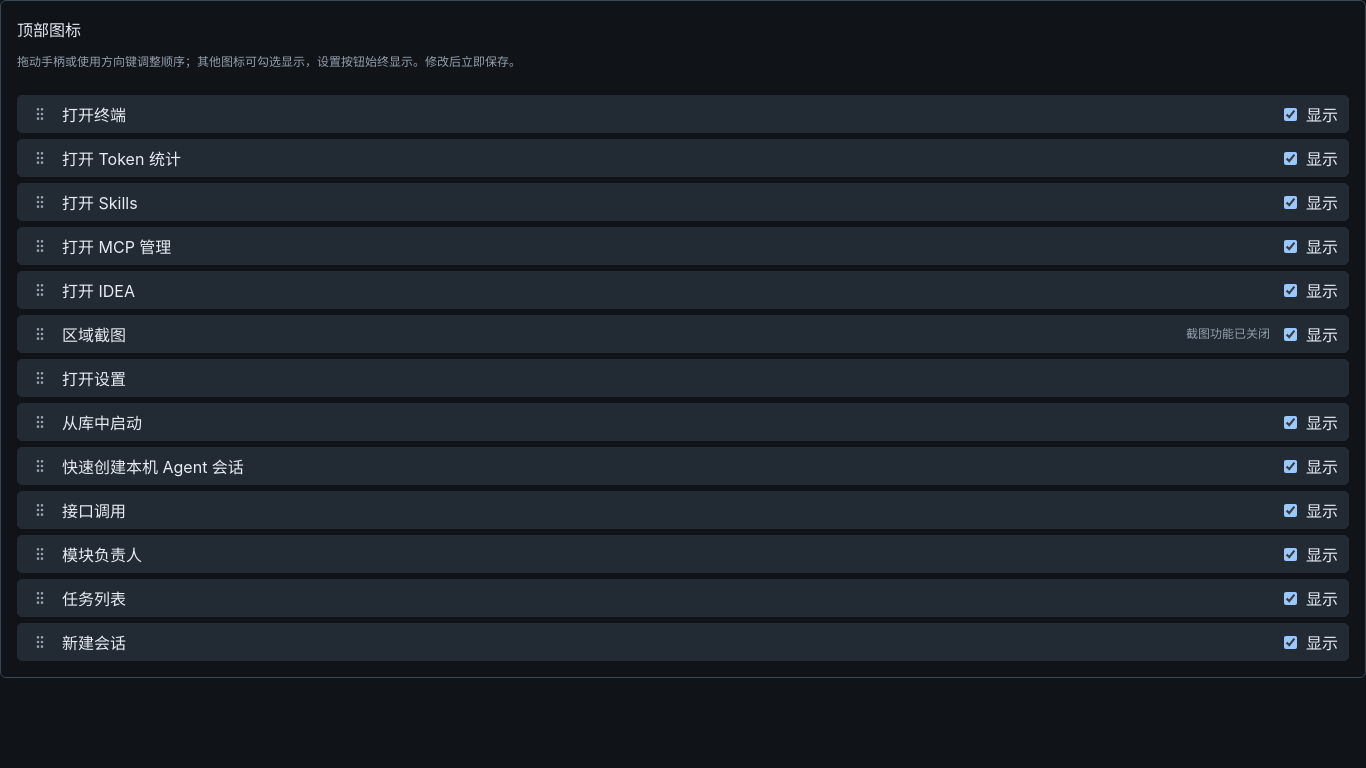
TitleBarActionSettings › keeps the error visible when saving fails
Expected: the text "截图功能已关闭" is shown, [1186, 325, 1270, 343]
Click the checkbox named "显示打开终端".
click(1290, 114)  # box [1284, 108, 1297, 120]
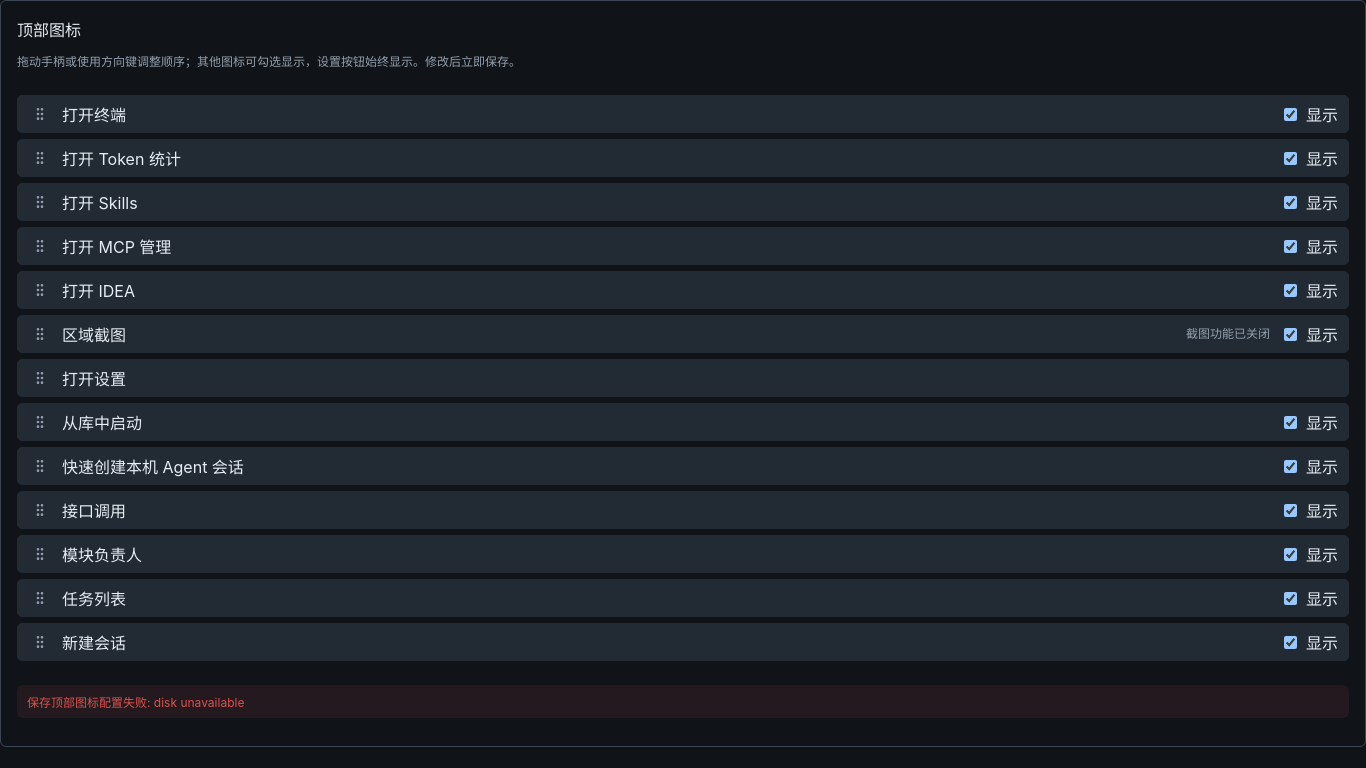
Expected: the message shows "disk unavailable", [154, 695, 244, 710]
